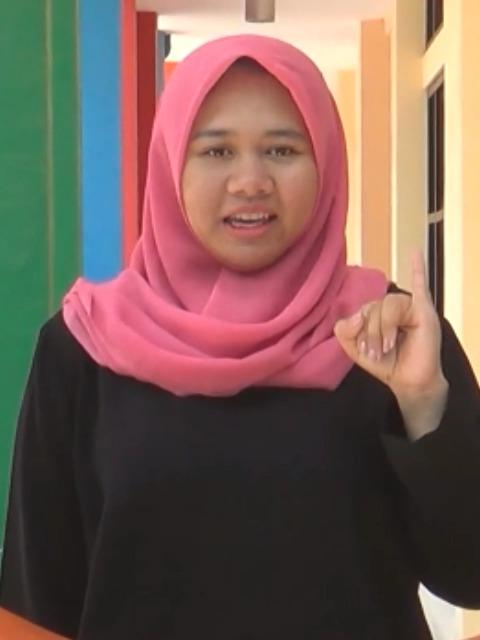I: (334, 242, 444, 401)
